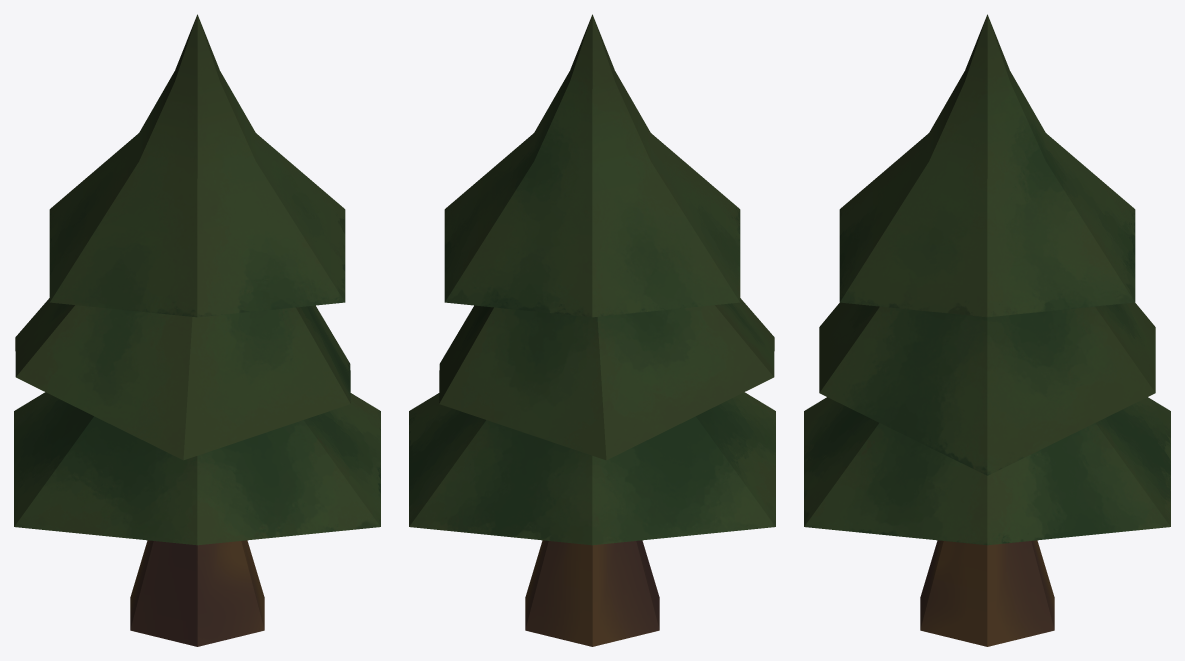
File: SM_tree.fbx
3 views of the same model, side by side, from view 1: azimuth 30°, elevation 25°; view 2: azimuth 150°, elevation 25°; view 3: azimuth 270°, elevation 25° (orthographic).
Parts seen in each view (by area): view 1: SM_tree; view 2: SM_tree; view 3: SM_tree.
Part boxes in pixels (bbox=[...]): SM_tree: bbox=[14, 14, 380, 646]; SM_tree: bbox=[409, 14, 775, 646]; SM_tree: bbox=[804, 14, 1170, 646].
Bounding box in the file's own units: 1.96 × 3.06 × 1.7.
Materials: 1 (1 with a texture image).
